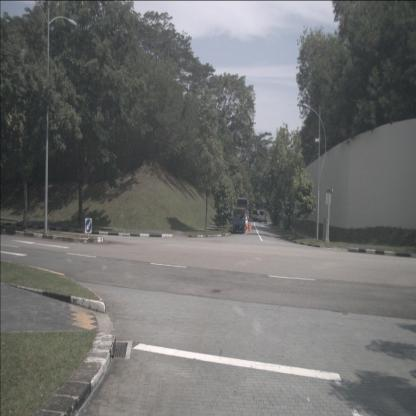cone: (245, 223, 248, 233), (249, 224, 252, 231)
